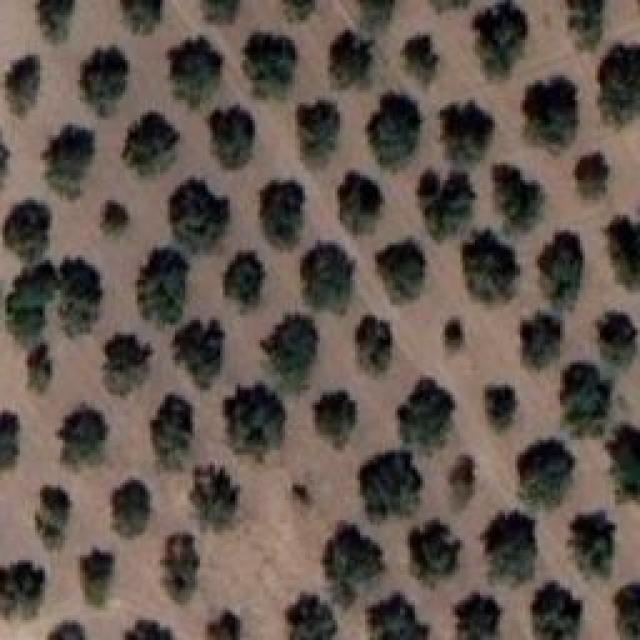Tree: (323, 523, 384, 606), (260, 313, 319, 391), (225, 385, 286, 460), (170, 177, 230, 252), (368, 93, 424, 171), (360, 450, 424, 517), (473, 0, 528, 77), (462, 230, 520, 303), (397, 378, 455, 451), (8, 263, 59, 346), (518, 440, 577, 510), (420, 170, 478, 240), (43, 125, 96, 200), (168, 38, 223, 109), (138, 248, 189, 324), (303, 243, 356, 314), (483, 512, 536, 582), (563, 363, 612, 436), (173, 320, 224, 390), (410, 520, 463, 587), (538, 233, 584, 310), (123, 113, 179, 176), (597, 45, 640, 127), (243, 32, 297, 97), (440, 100, 495, 163), (60, 258, 104, 336), (527, 78, 577, 146), (495, 165, 544, 233), (82, 47, 130, 116), (150, 395, 193, 471), (570, 510, 618, 576), (190, 468, 240, 531), (375, 240, 425, 303), (3, 200, 52, 263), (533, 582, 586, 640), (58, 405, 109, 465), (105, 335, 154, 396), (260, 180, 304, 247), (298, 100, 342, 166), (210, 105, 256, 168), (338, 173, 383, 235), (368, 595, 429, 640), (0, 560, 45, 620), (162, 533, 200, 604), (330, 30, 374, 87), (223, 253, 266, 311), (315, 390, 358, 448), (607, 217, 640, 290), (607, 424, 640, 497), (35, 485, 71, 550), (598, 313, 639, 370), (520, 313, 561, 370), (455, 592, 503, 640), (113, 480, 152, 538), (355, 315, 393, 373), (288, 593, 334, 640), (5, 55, 40, 116), (80, 550, 114, 608), (403, 35, 439, 85), (568, 0, 604, 48), (575, 154, 610, 198), (40, 0, 76, 42), (450, 455, 476, 511), (615, 582, 640, 640), (120, 0, 162, 33), (285, 478, 318, 520), (488, 385, 517, 431), (28, 342, 53, 392), (0, 413, 20, 470), (360, 0, 396, 31), (100, 200, 129, 235), (125, 620, 175, 640), (208, 612, 243, 640), (205, 0, 240, 23), (443, 318, 464, 351), (47, 622, 85, 640), (285, 0, 316, 21)
